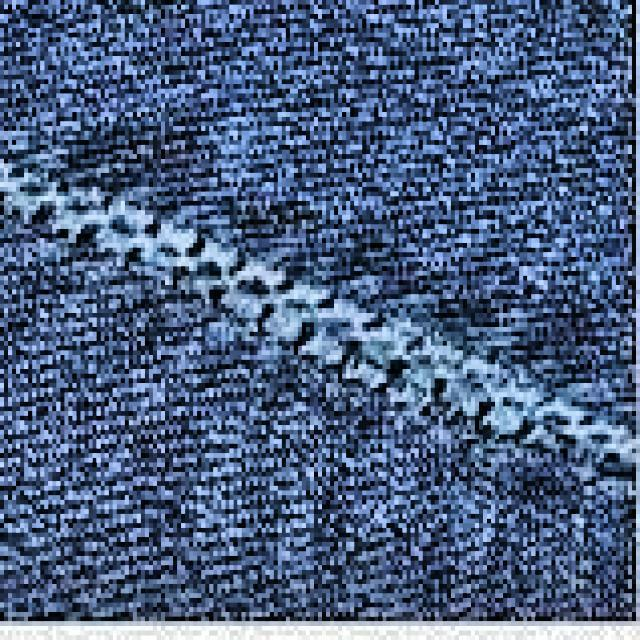gray stitch: (53, 170, 600, 449)
